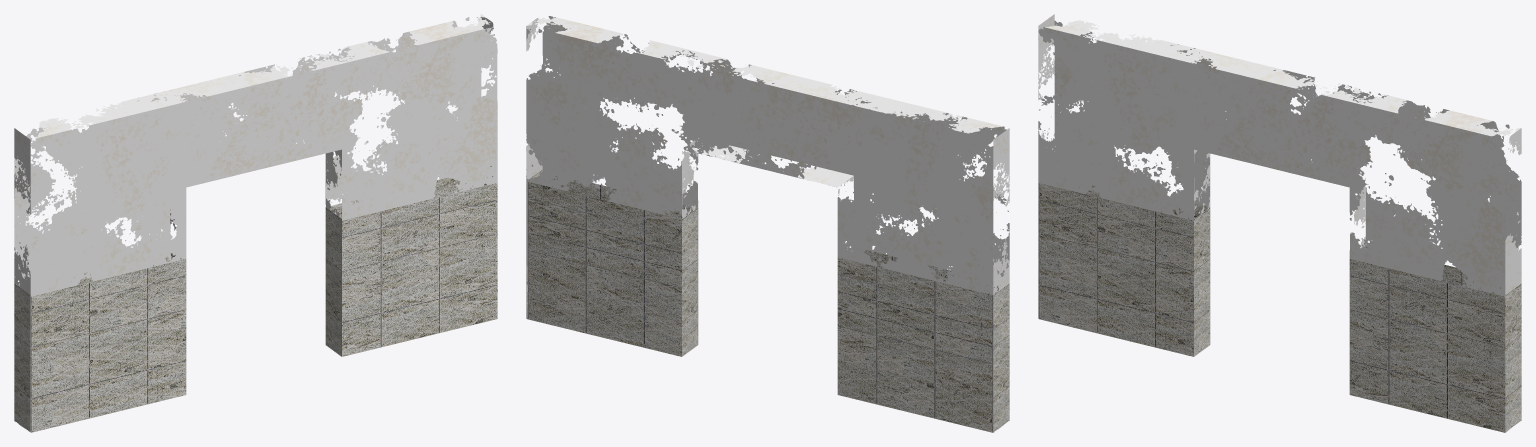
File: wall_open.obj
The picture shows the model from 3 angles, left to right: view 1: azimuth 30°, elevation 25°; view 2: azimuth 150°, elevation 25°; view 3: azimuth 330°, elevation 25°; orthographic projection.
Visible parts, largest first — view 1: Wall1; view 2: Wall1; view 3: Wall1.
Boxes of the visible parts, x1,y1,x2,y2 form: Wall1: (14,14,497,432); Wall1: (526,16,1009,432); Wall1: (1038,14,1521,432).
Size of the model in its own units: 500 by 300 by 30.
